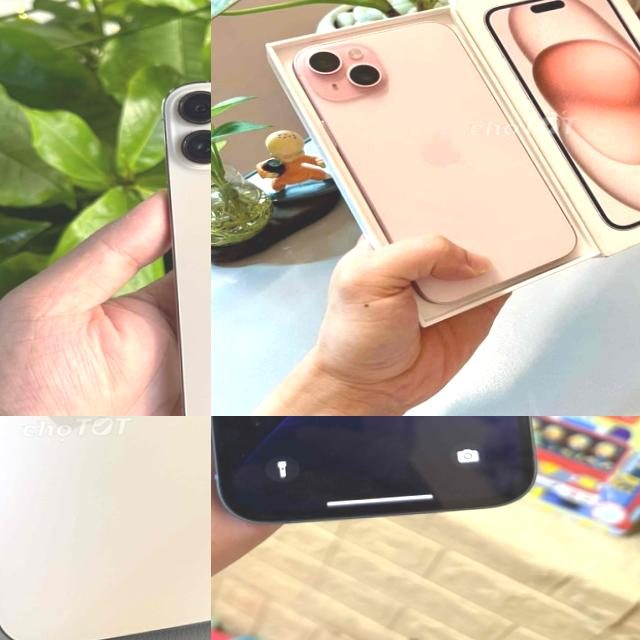gen_12_13: (279, 13, 584, 300), (211, 416, 540, 529)
gen_16: (0, 416, 211, 640)
